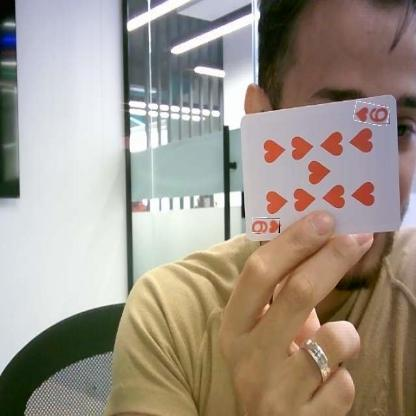9H: (354, 102, 390, 124), (252, 218, 280, 233)
